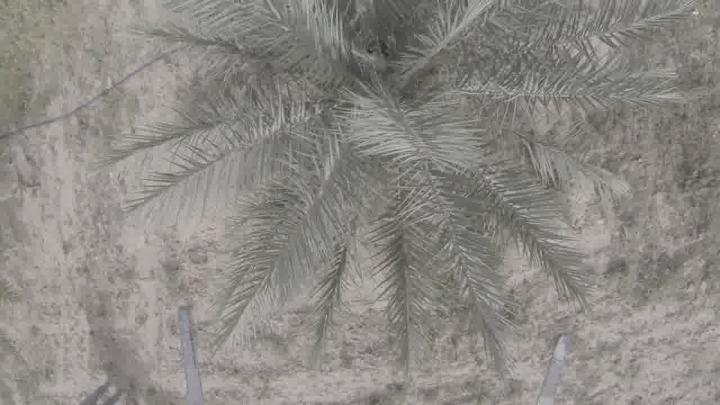Date-Palm-Crown: (237, 0, 533, 276)
